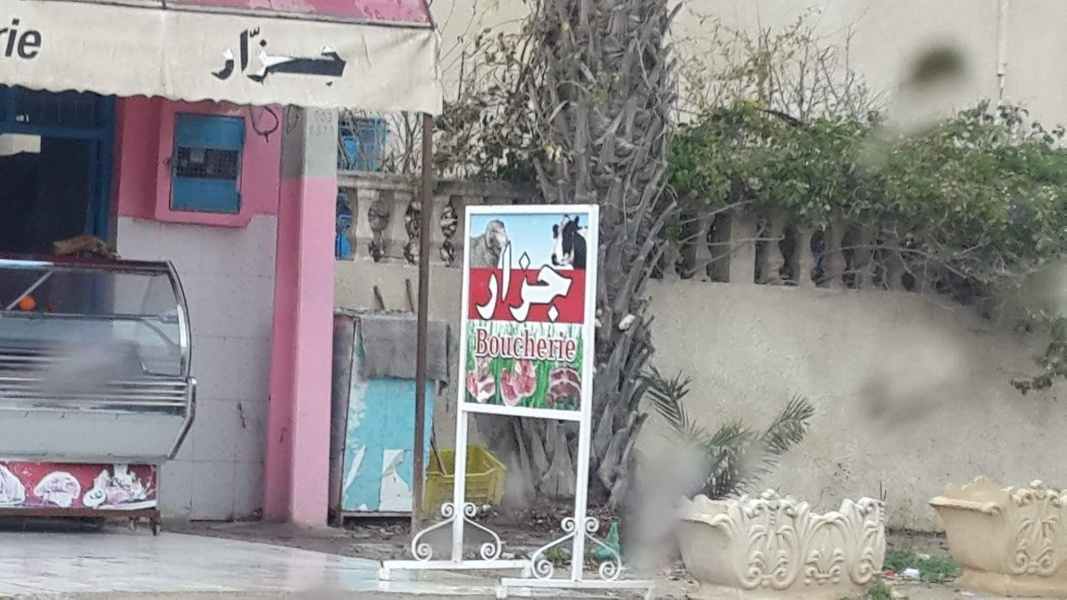text: (481, 237, 496, 323), (497, 237, 512, 323), (513, 237, 528, 323), (529, 237, 544, 323), (545, 237, 560, 323), (561, 237, 576, 323), (225, 23, 240, 88), (241, 23, 256, 88), (257, 23, 272, 88), (273, 23, 288, 88), (289, 23, 304, 88), (305, 23, 320, 88), (321, 23, 336, 88), (337, 23, 349, 88), (17, 16, 32, 63), (33, 16, 48, 63), (481, 327, 496, 364), (497, 327, 512, 364), (513, 327, 528, 364), (529, 327, 544, 364), (545, 327, 560, 364), (561, 327, 576, 364), (217, 23, 224, 88), (321, 124, 337, 139), (11, 16, 16, 63), (321, 109, 334, 124), (475, 327, 480, 364), (308, 124, 320, 139), (313, 109, 320, 124), (577, 327, 579, 364)
